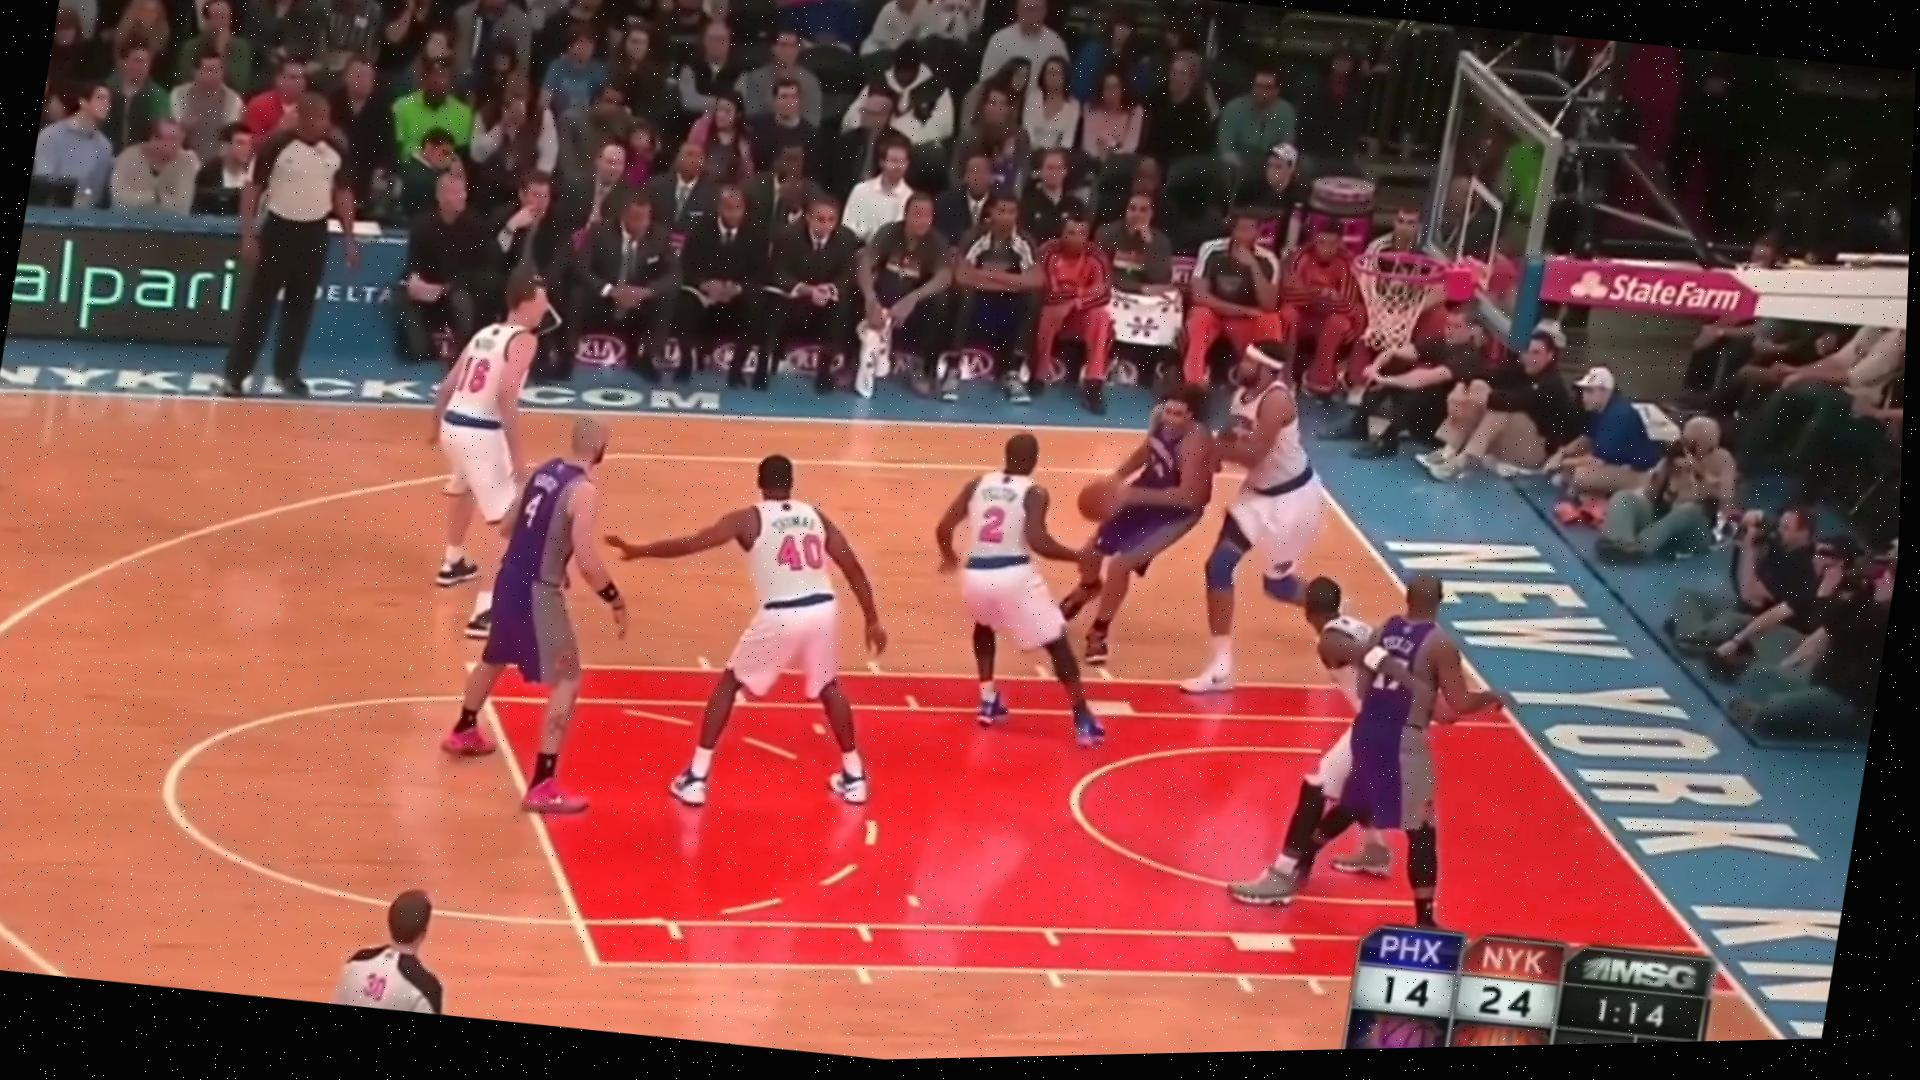no_foul: (1021, 310, 1379, 731)
